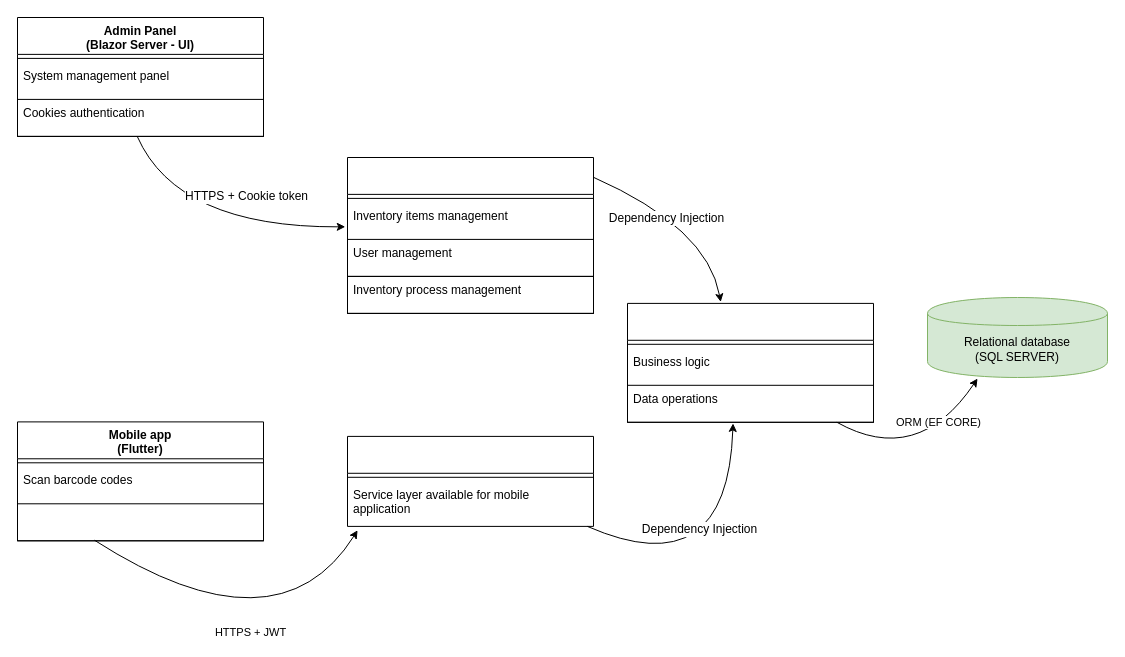
Some shapes in this 1125 by 657 pixel diagram are drawn without their labels. Each missing label, with the box of its shape:
Blazor Server App (.NET): (346, 156, 594, 313)
REST API Server (ASP .NET Core): (346, 435, 594, 526)
Shared Business Layer (.NET class library): (626, 302, 874, 422)
Update inventory items: (16, 503, 264, 541)
